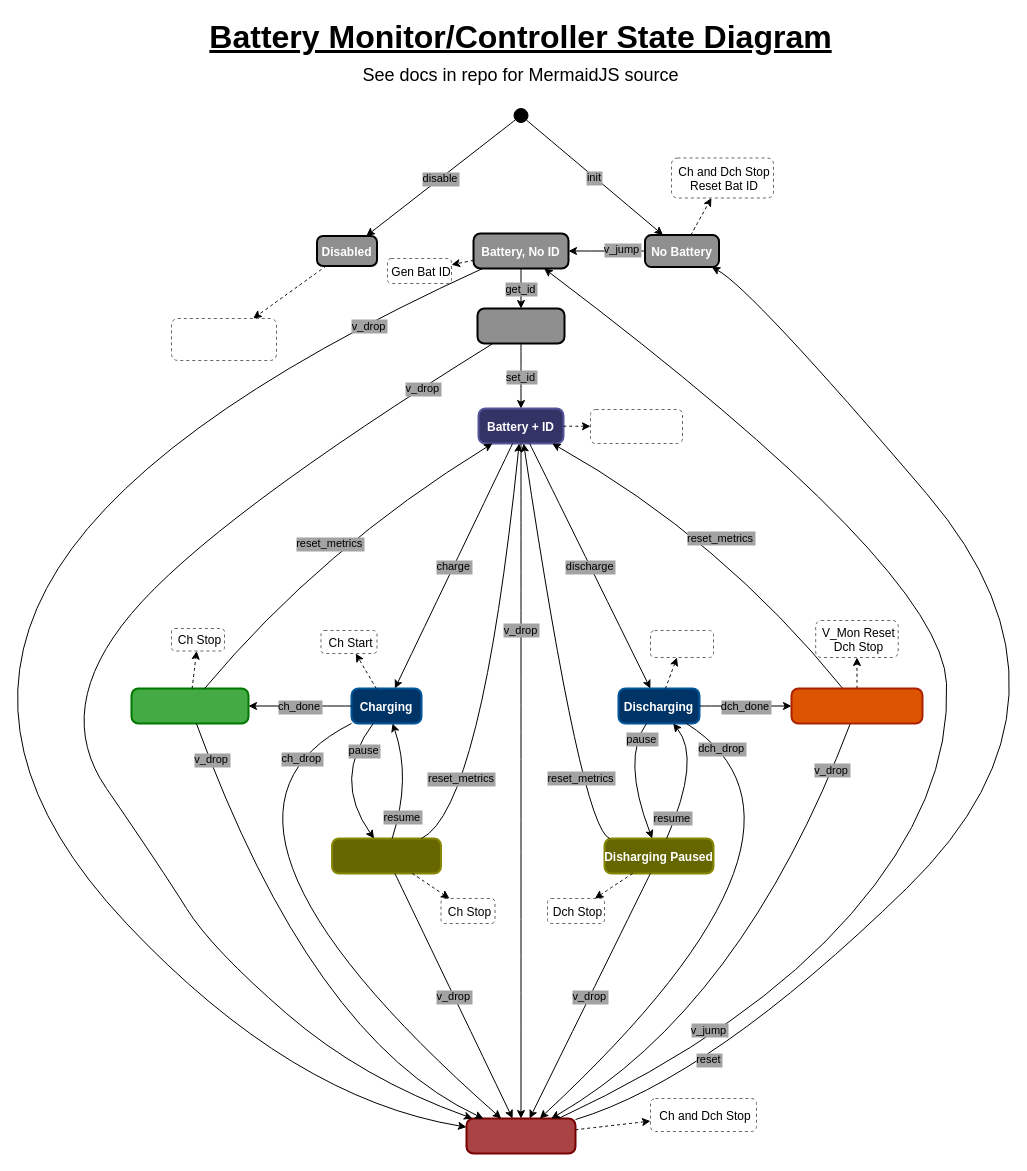
The diagram is 1027 pixels wide and 1171 high, and some of its shapes have lost their labels. The shapes that lost their labels are listed below. From the top down, each one's box as (x1, y1, x2, y2) in pixels, then its label:
(170, 318, 276, 360): Monitors disabled Ch and Dch Off
(476, 307, 565, 344): Input Bat ID
(590, 408, 682, 444): Reset monitors
(650, 630, 714, 658): Dch Sart
(130, 687, 249, 724): Charge completed
(790, 687, 923, 724): Disharge Completed
(330, 837, 442, 874): Charging Paused
(465, 1117, 576, 1154): Battery removed
